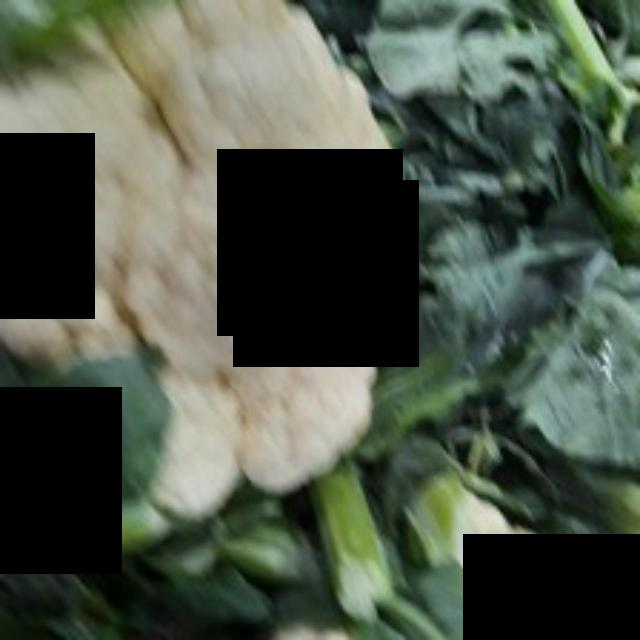cauliflower: (3, 0, 410, 552)
